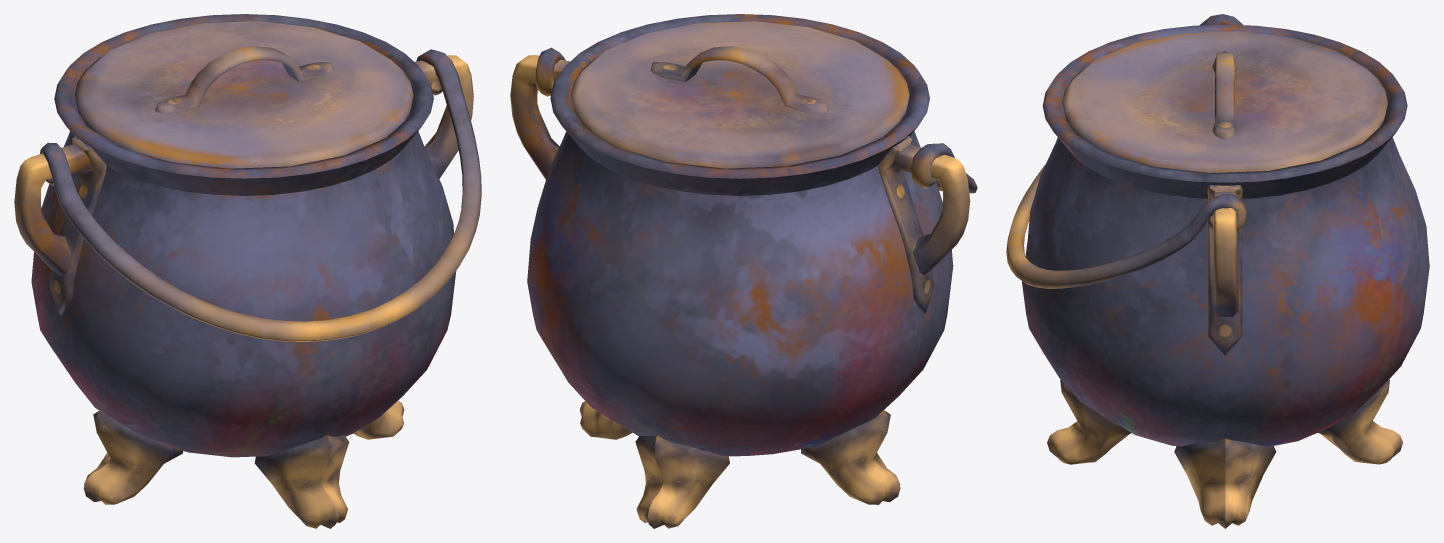
Rendered from SM_Potion_Props_Pot_03_A 1.fbx.
The picture shows the model from 3 angles, left to right: view 1: azimuth 30°, elevation 25°; view 2: azimuth 150°, elevation 25°; view 3: azimuth 270°, elevation 25°; orthographic projection. The views are drawn at different scales.
Visible parts, largest first — view 1: SM_Potion_Props_Pot_03_A_LOD0; view 2: SM_Potion_Props_Pot_03_A_LOD0; view 3: SM_Potion_Props_Pot_03_A_LOD0.
Boxes of the visible parts, x1=… form: SM_Potion_Props_Pot_03_A_LOD0: x1=14, y1=14, x2=481, y2=528; SM_Potion_Props_Pot_03_A_LOD0: x1=510, y1=14, x2=977, y2=528; SM_Potion_Props_Pot_03_A_LOD0: x1=1006, y1=14, x2=1429, y2=528.
Size of what is drawn, in the model's own units: 72.14 by 63.1 by 60.73.
